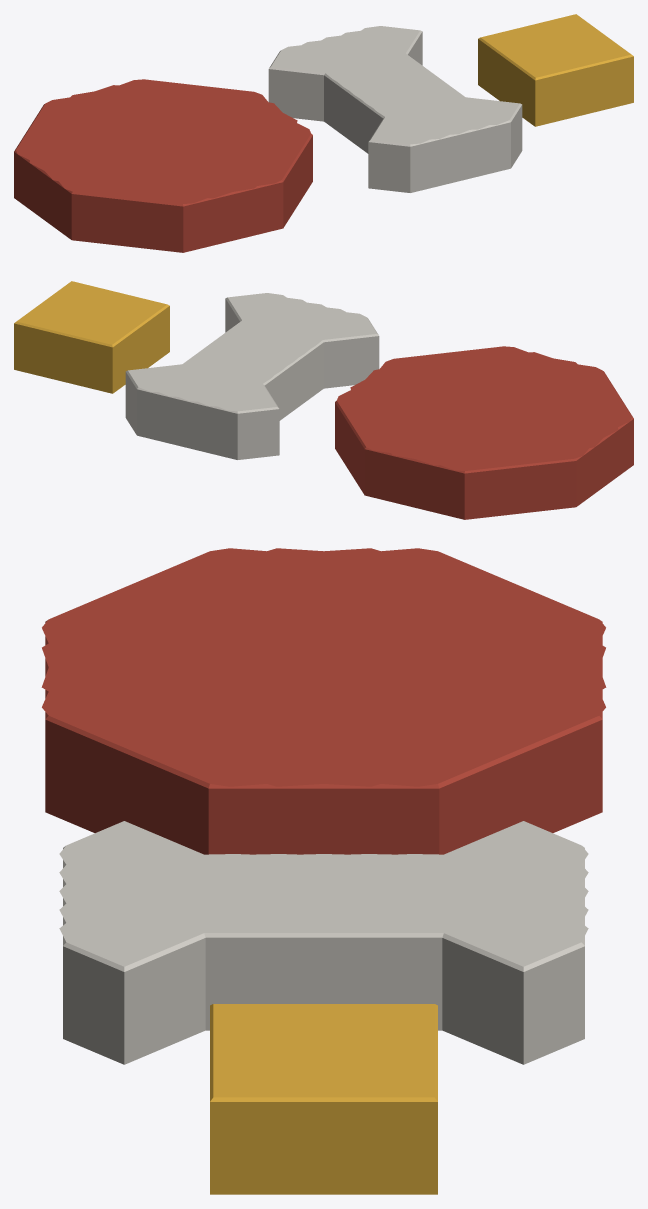
The model's file is mahsulot.glb.
3 views of the same model, one above another, from view 1: azimuth 30°, elevation 25°; view 2: azimuth 150°, elevation 25°; view 3: azimuth 270°, elevation 25° (orthographic). The views are drawn at different scales.
Visible parts, largest first — view 1: mahsulot_A, mahsulot_B, mahsulot_V; view 2: mahsulot_A, mahsulot_B, mahsulot_V; view 3: mahsulot_A, mahsulot_B, mahsulot_V.
Boxes of the visible parts, left/top/right/bottom form: mahsulot_A: left=14, top=79, right=312, bottom=252; mahsulot_B: left=268, top=26, right=522, bottom=192; mahsulot_V: left=478, top=14, right=633, bottom=126; mahsulot_A: left=335, top=346, right=633, bottom=519; mahsulot_B: left=125, top=293, right=379, bottom=459; mahsulot_V: left=14, top=281, right=169, bottom=393; mahsulot_A: left=41, top=548, right=606, bottom=854; mahsulot_B: left=59, top=821, right=588, bottom=1064; mahsulot_V: left=210, top=1004, right=437, bottom=1194.
Bounding box in the file's own units: 0.5538 × 0.045 × 0.24.
